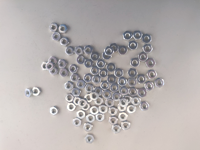nut: (123, 31, 133, 41), (133, 30, 143, 40), (130, 58, 140, 68), (155, 78, 165, 88), (119, 98, 129, 108), (107, 75, 117, 85), (119, 112, 129, 122), (138, 53, 149, 62), (147, 70, 158, 79), (143, 34, 152, 44), (129, 41, 138, 51), (118, 46, 128, 55), (146, 59, 156, 68), (137, 75, 147, 84), (128, 69, 138, 78), (140, 102, 150, 111), (138, 89, 148, 98), (99, 69, 108, 79), (107, 63, 116, 73), (86, 114, 95, 124), (85, 135, 95, 144), (90, 106, 99, 116), (128, 78, 138, 87), (115, 69, 124, 79), (120, 87, 129, 97), (118, 77, 127, 87), (110, 83, 119, 93), (101, 81, 110, 91), (112, 93, 122, 102), (129, 87, 138, 97), (127, 105, 137, 114), (109, 107, 118, 117), (50, 107, 59, 116), (58, 60, 67, 69), (60, 69, 69, 78), (65, 82, 74, 91), (75, 46, 84, 55), (69, 65, 78, 74), (84, 46, 93, 55), (49, 67, 58, 76), (73, 119, 82, 128), (84, 74, 93, 83), (77, 111, 86, 120), (105, 47, 114, 56), (103, 52, 112, 61), (145, 82, 154, 91), (97, 60, 106, 69), (93, 76, 102, 85), (90, 92, 99, 101), (82, 103, 91, 112), (96, 114, 105, 123), (99, 105, 108, 114), (103, 91, 112, 100), (106, 99, 115, 108), (132, 97, 141, 106), (122, 122, 131, 131), (112, 125, 121, 134), (109, 117, 118, 126), (143, 45, 153, 53), (60, 38, 70, 46), (84, 60, 94, 68), (78, 100, 88, 108), (85, 85, 95, 93), (59, 25, 68, 33), (50, 23, 58, 32), (66, 47, 74, 56), (46, 62, 54, 71), (71, 74, 80, 82), (77, 56, 86, 64), (72, 89, 81, 97), (67, 104, 76, 112), (91, 53, 100, 61), (77, 81, 86, 89), (110, 44, 119, 52), (91, 67, 100, 75), (85, 94, 93, 103), (84, 124, 93, 132), (94, 88, 103, 96), (95, 98, 104, 106), (128, 79, 137, 87), (123, 96, 132, 104), (118, 104, 127, 112), (53, 33, 61, 41), (49, 57, 57, 65), (66, 95, 74, 103), (25, 89, 32, 98), (33, 88, 40, 96), (41, 62, 47, 71), (74, 98, 80, 106)
